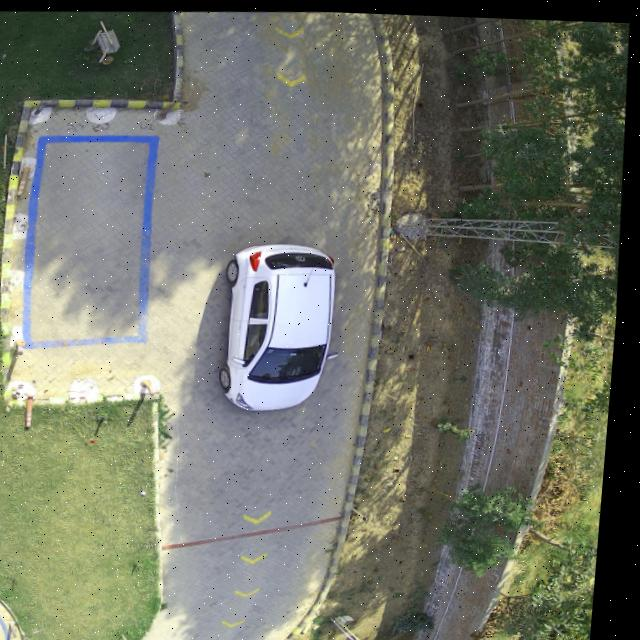car: (225, 242, 338, 408)
